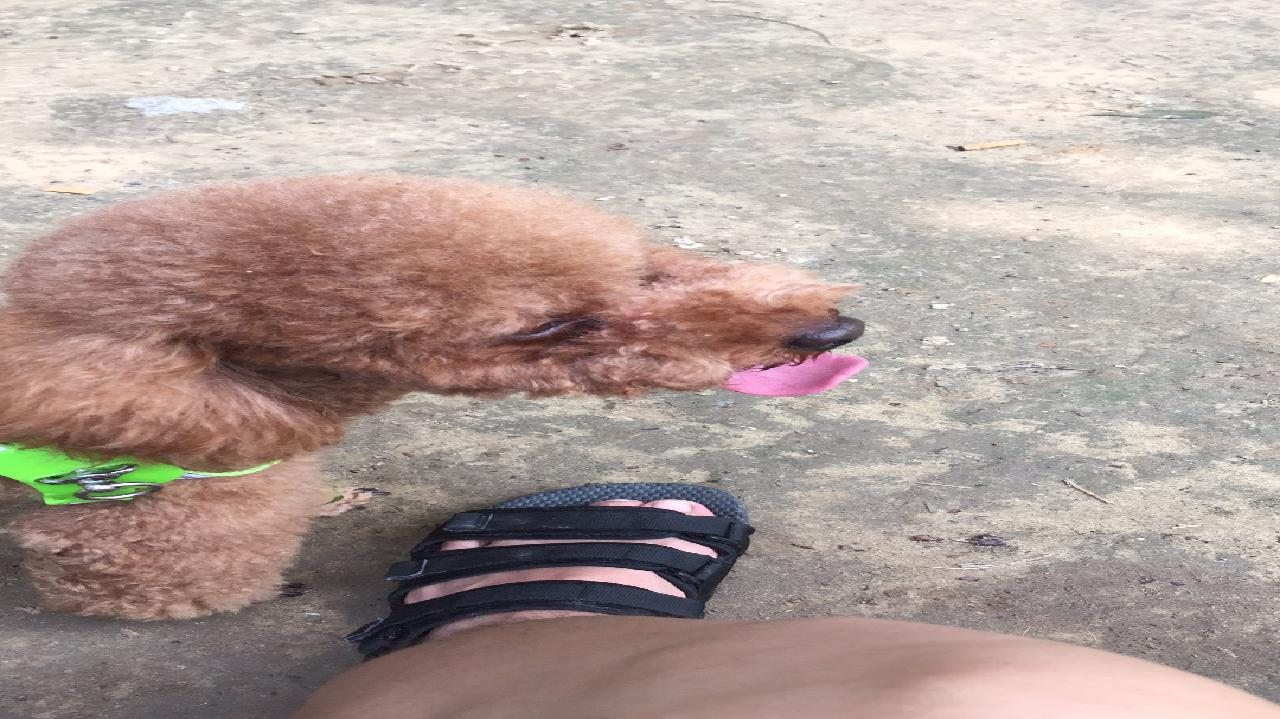coin: (3, 167, 891, 609)
